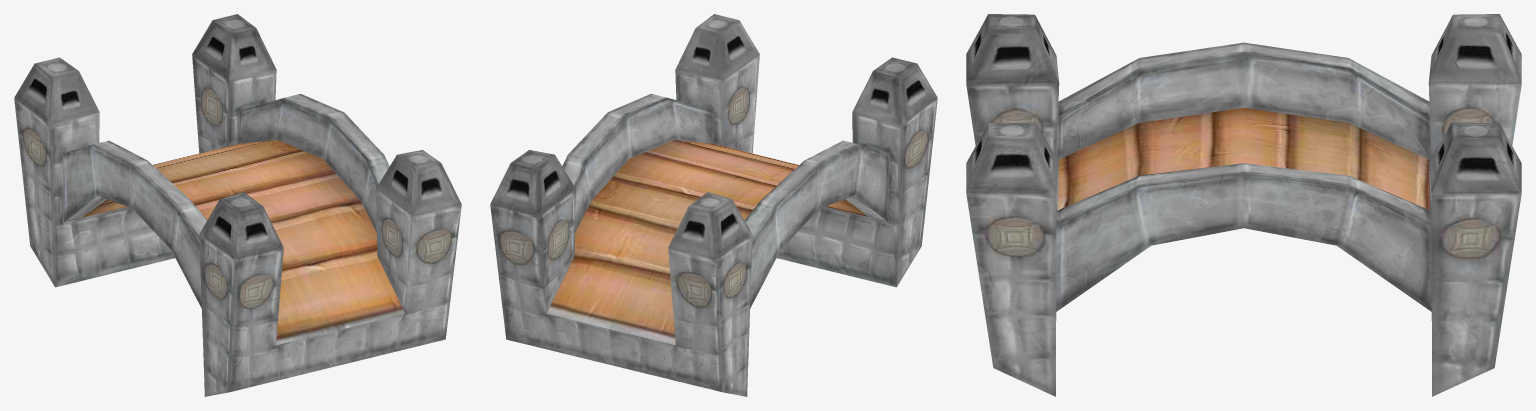
The model's file is Bridge2.gltf.
3 renders of one model, left to right at view 1: azimuth 30°, elevation 25°; view 2: azimuth 150°, elevation 25°; view 3: azimuth 270°, elevation 25°, orthographic. The views are drawn at different scales.
Visible parts, largest first — view 1: bridge 2; view 2: bridge 2; view 3: bridge 2.
Boxes of the visible parts, x1,y1,x2,y2 form: bridge 2: [14, 14, 461, 396]; bridge 2: [490, 14, 937, 396]; bridge 2: [966, 14, 1521, 396].
Bounding box in the file's own units: 5.12 × 4.38 × 8.65.
1 material, 1 textured.
